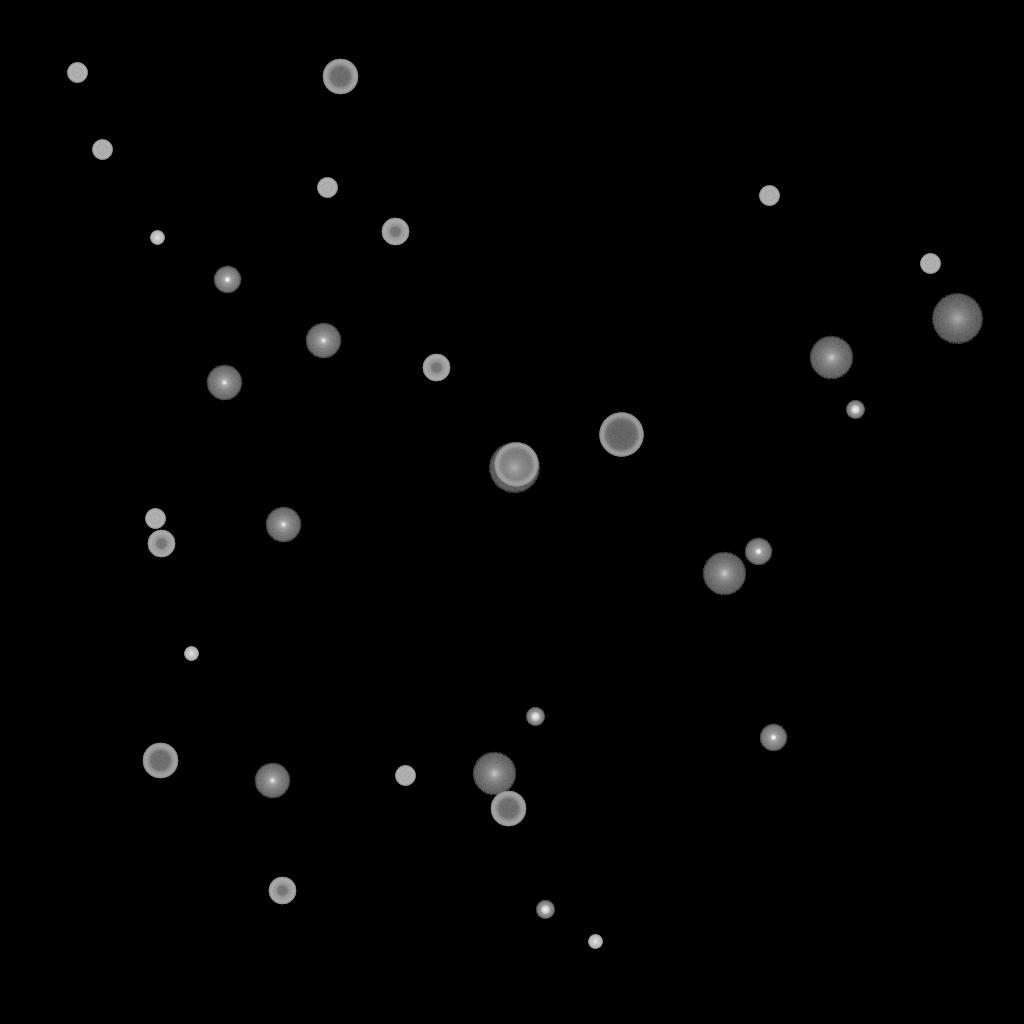depth:-10: (759, 724, 787, 752), (213, 266, 241, 294), (744, 538, 772, 566)
depth:-20: (526, 708, 544, 726), (536, 901, 554, 919), (846, 401, 864, 419)
depth:-30: (184, 647, 198, 661), (588, 935, 602, 949), (150, 231, 164, 245)
depth:-40: (67, 63, 87, 83), (395, 766, 415, 786), (317, 178, 337, 198), (759, 186, 779, 206), (92, 140, 112, 160), (920, 254, 940, 274), (145, 509, 165, 529)
depth:-50: (268, 877, 296, 905), (422, 354, 450, 382), (381, 218, 409, 246), (147, 530, 175, 558)
depth:-60: (322, 59, 358, 95), (490, 791, 526, 827), (142, 743, 178, 779)
depth:-70: (494, 443, 538, 487), (599, 413, 643, 457)
depth:0: (206, 365, 242, 401), (254, 763, 290, 799), (265, 507, 301, 543), (305, 323, 341, 359)
depth:10: (472, 752, 516, 796), (809, 336, 853, 380), (702, 552, 746, 596)
depth:20: (931, 294, 983, 344), (488, 443, 540, 493)
